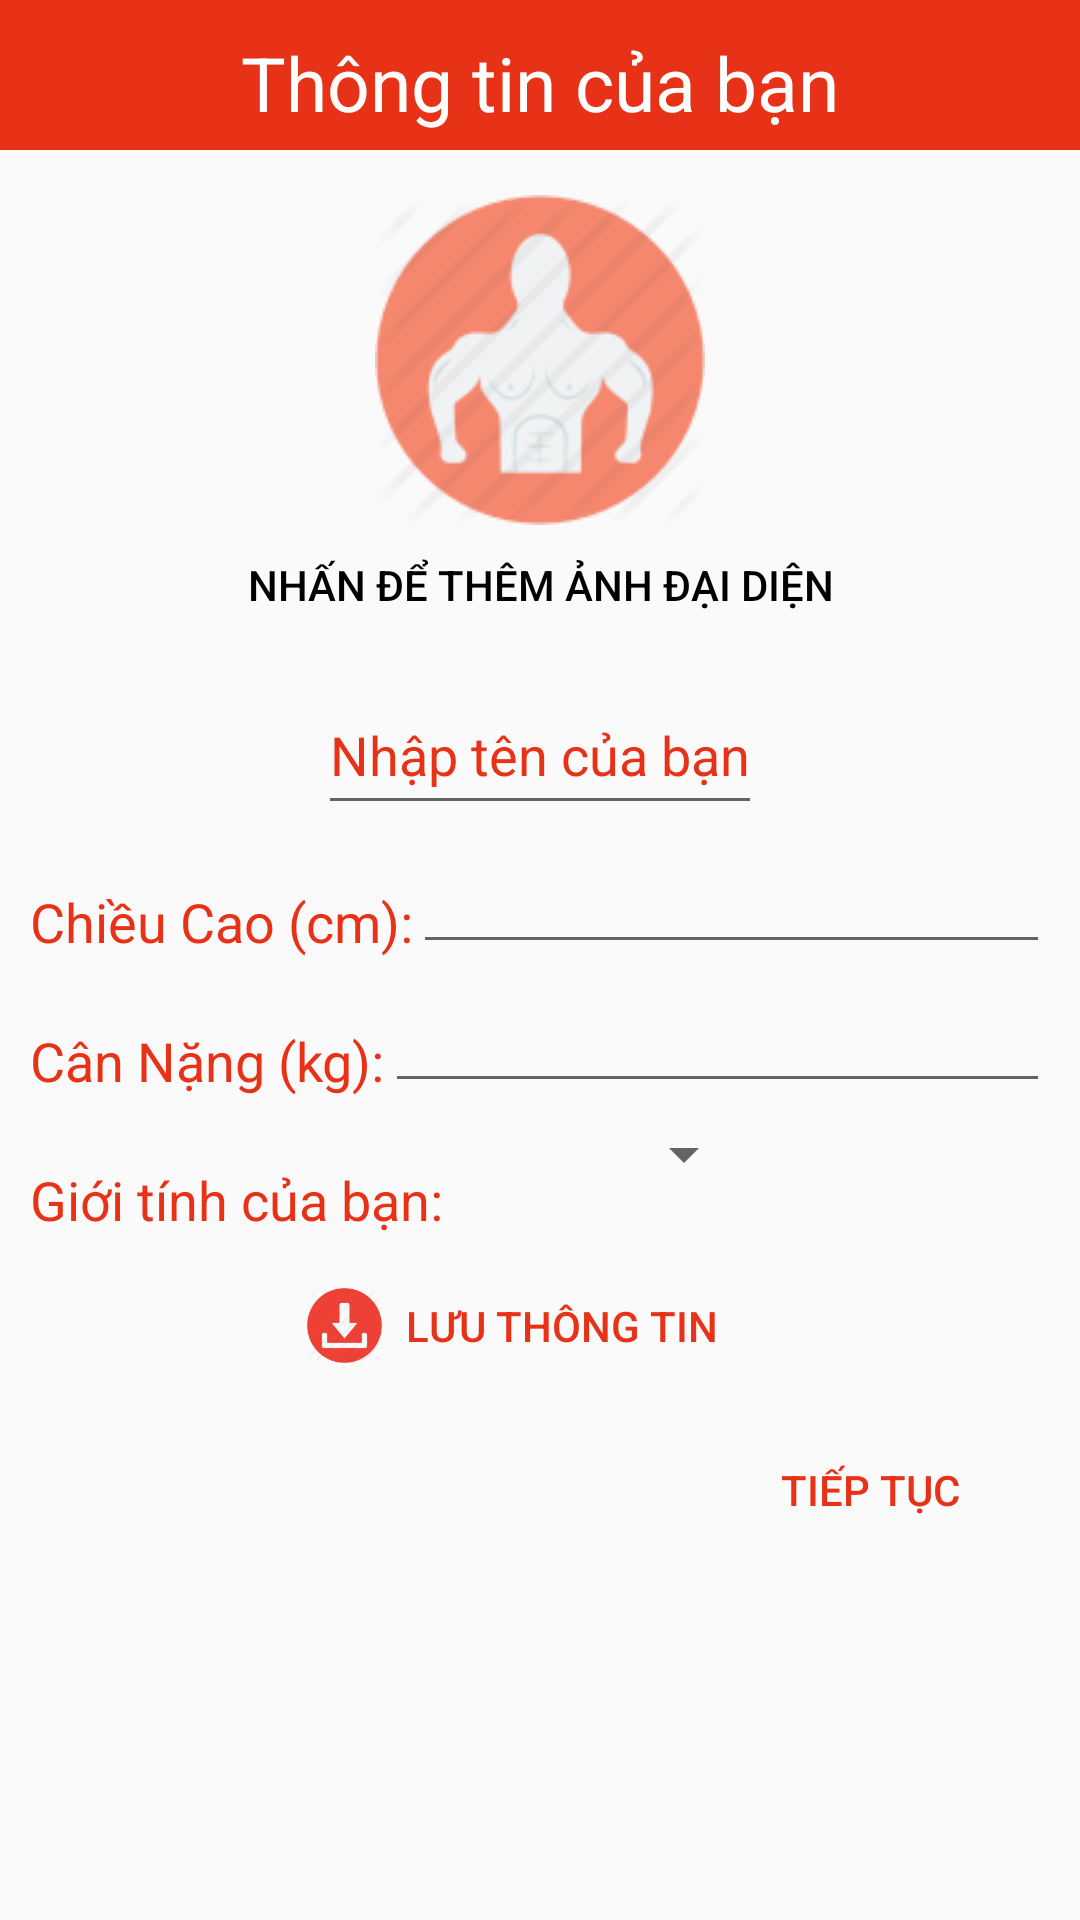

Icons on this 1080 × 1920 Android screen, each with the point to tap as [x,y]:
save: [344,1325]
